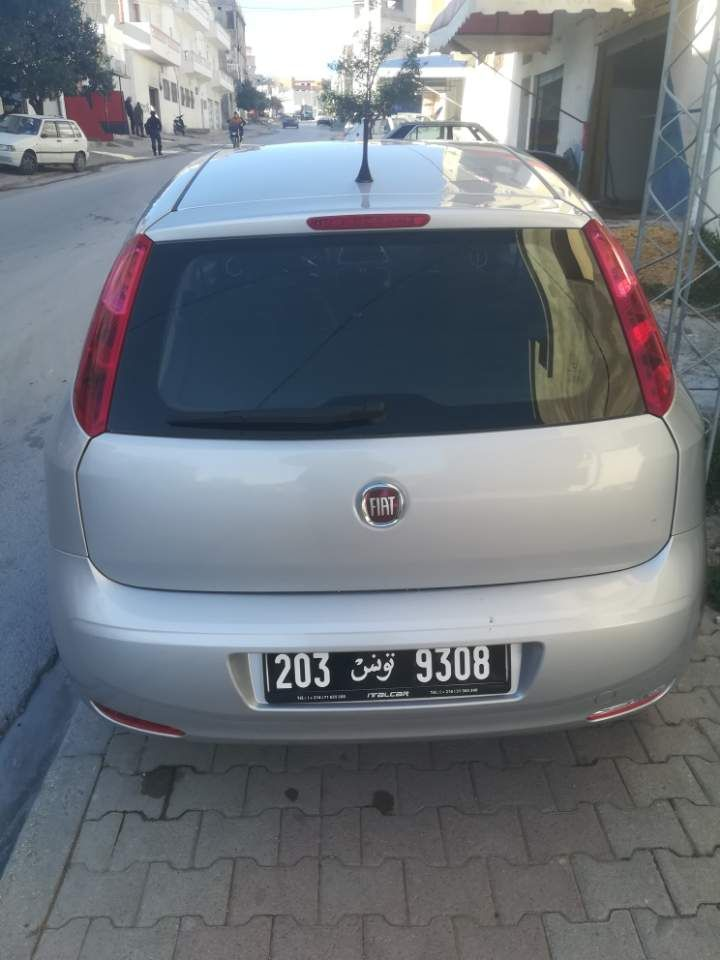LP: (261, 644, 511, 690)
